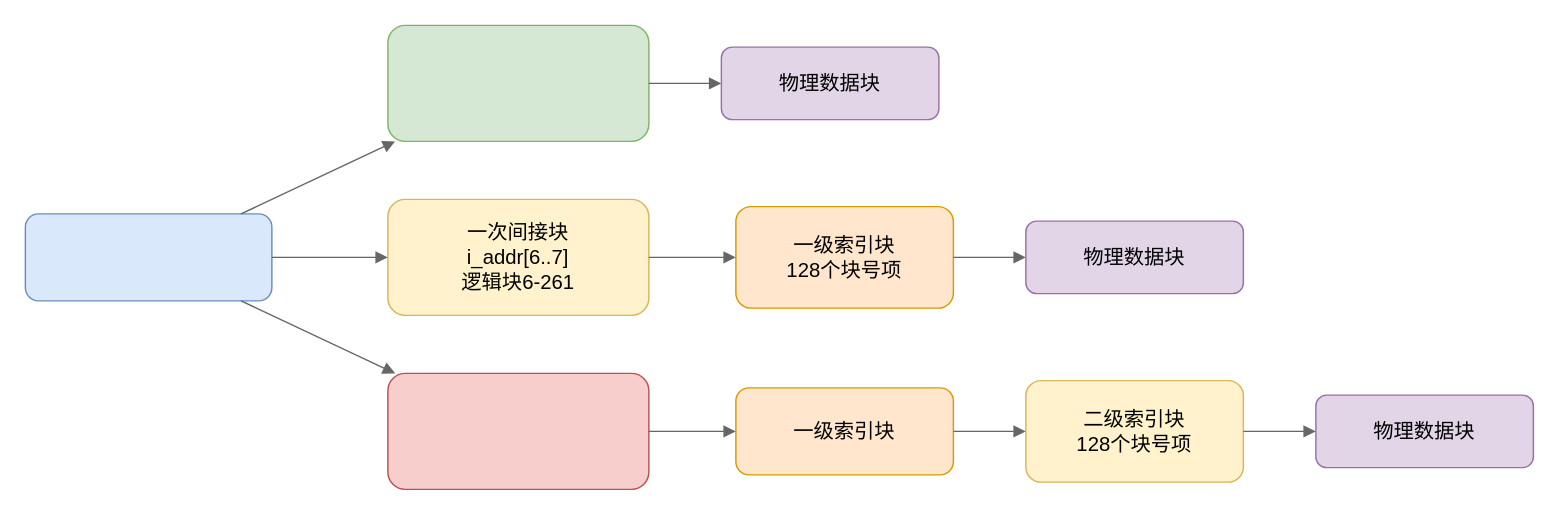
Some shapes in this 1559 by 515 pixel diagram are drawn without their labels. Here are the shapes that lost their labels. From the top down, the box of each, then its label:
(386, 24, 649, 141): 直接块 i_addr[0..5] 逻辑块0-5
(24, 212, 272, 301): Inode.i_addr[10]
(386, 372, 649, 489): 二次间接块 i_addr[8..9] 逻辑块262-33029
